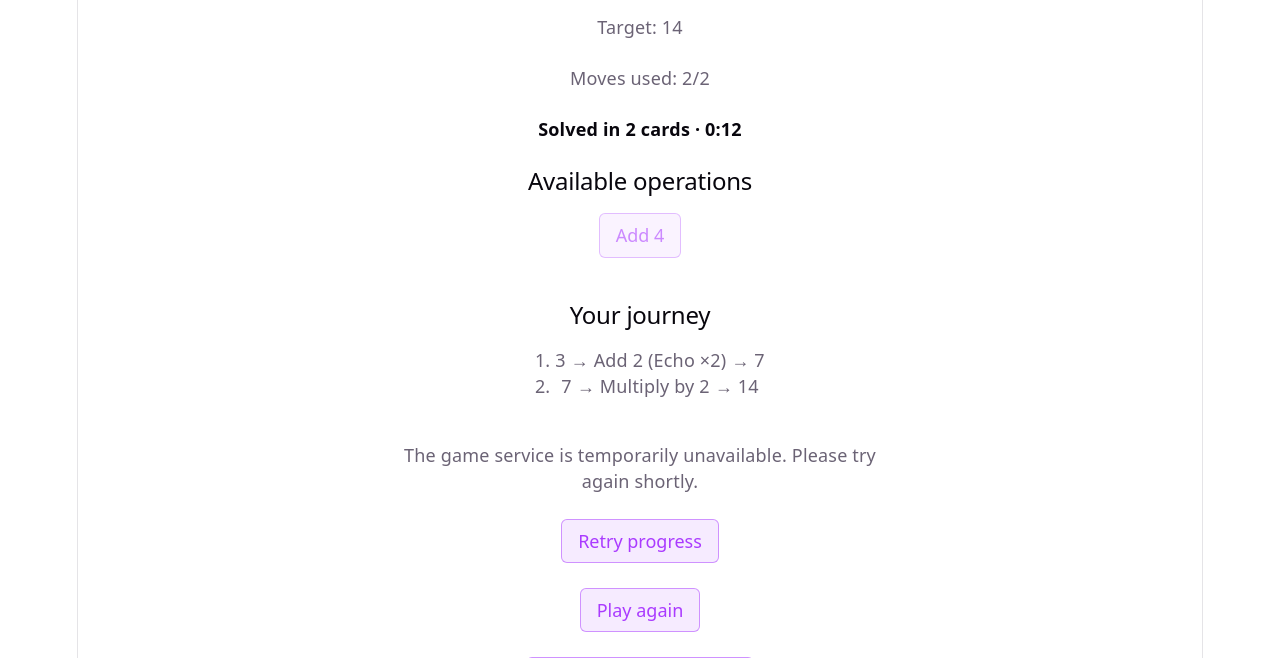
Test: a progress failure does not lose a won game and can be retried
(page scrolled)
Expected: the text "Solved in 2 cards · 0:12" is shown, [538,116,742,142]
What coordinates should you click on to do the following:
click the button "Retry progress"
I would click on:
 (640, 541)
Its box is [561,519,719,563].
(page scrolled)
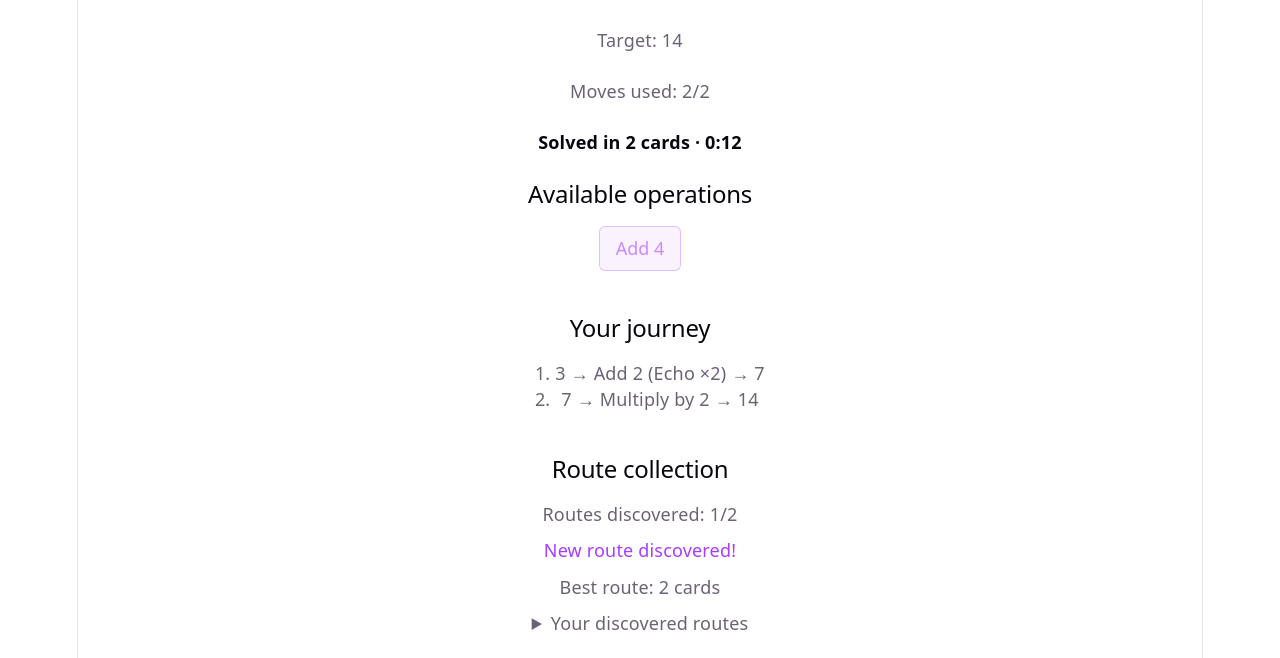
Result: the text "Routes discovered: 1/2" is shown at [542,502,738,526]
Result: the button "Retry progress" is gone
